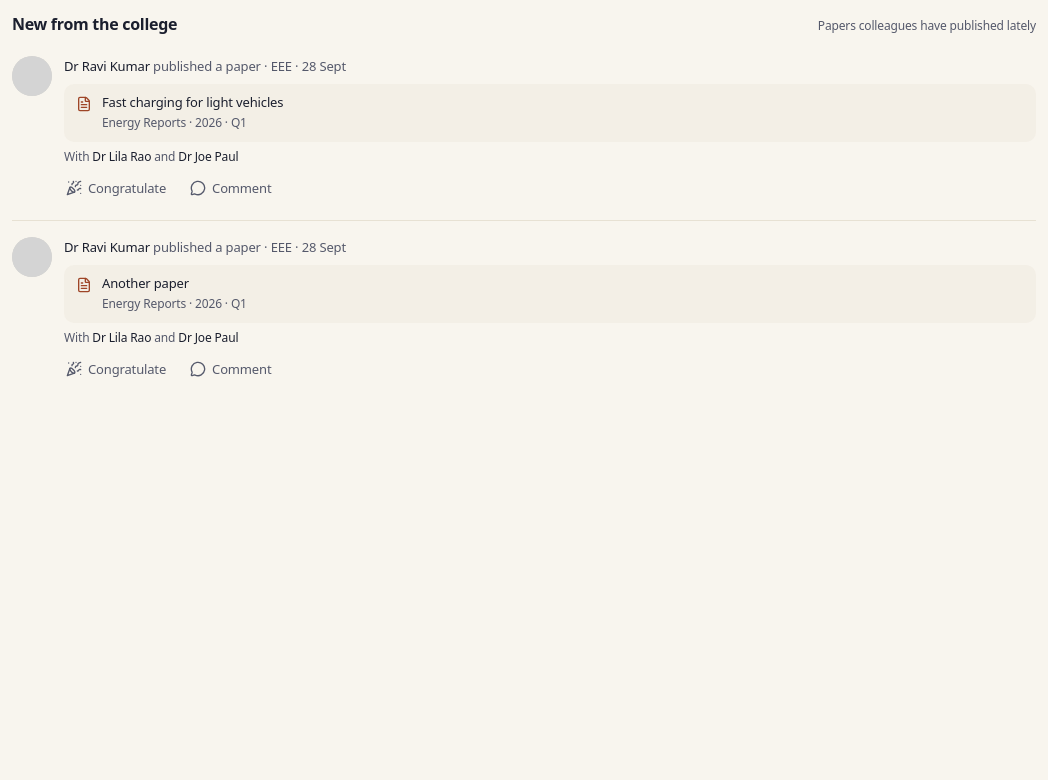
Test case: College stream › Congratulate opens the note under that paper, with the colleague named, not somewhere else
Step 1. Click the button "Congratulate" below "Fast charging for light vehicles" → (116, 188), box [56,172,176,204]
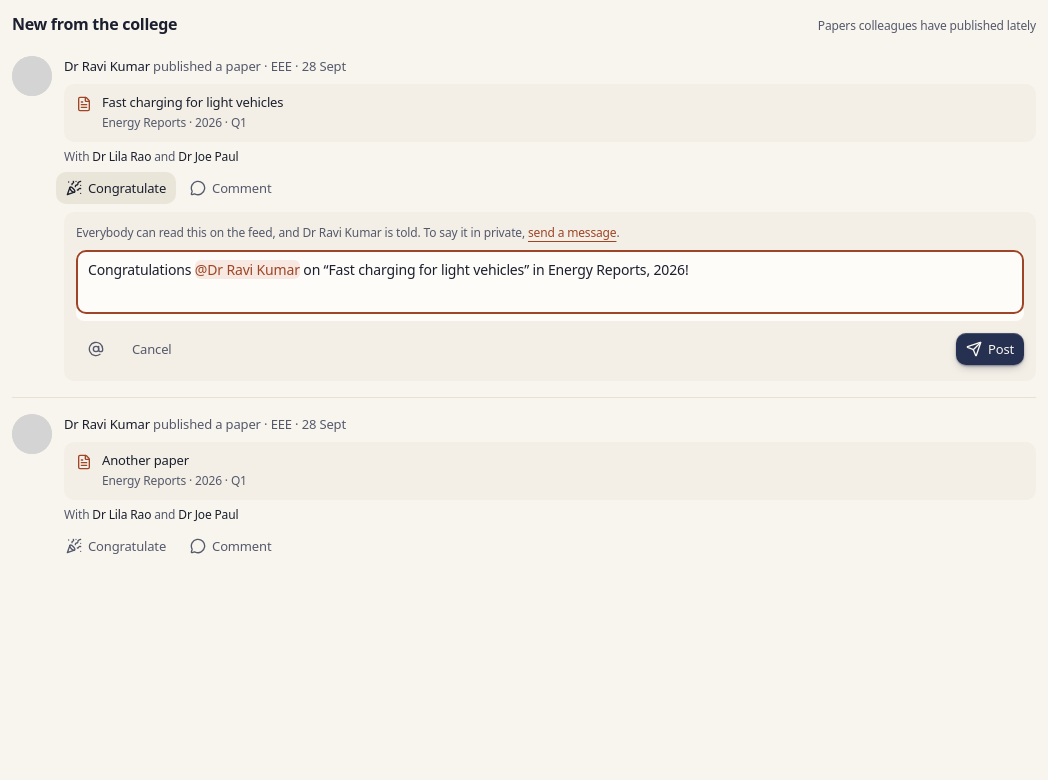
Expected: the dropdown labelled "Your note to Dr Ravi Kumar" holds "Congratulations @Dr Ravi Kumar on “Fast charging for light vehicles” in Energy Reports, 2026! ", [76,250,1024,314]
